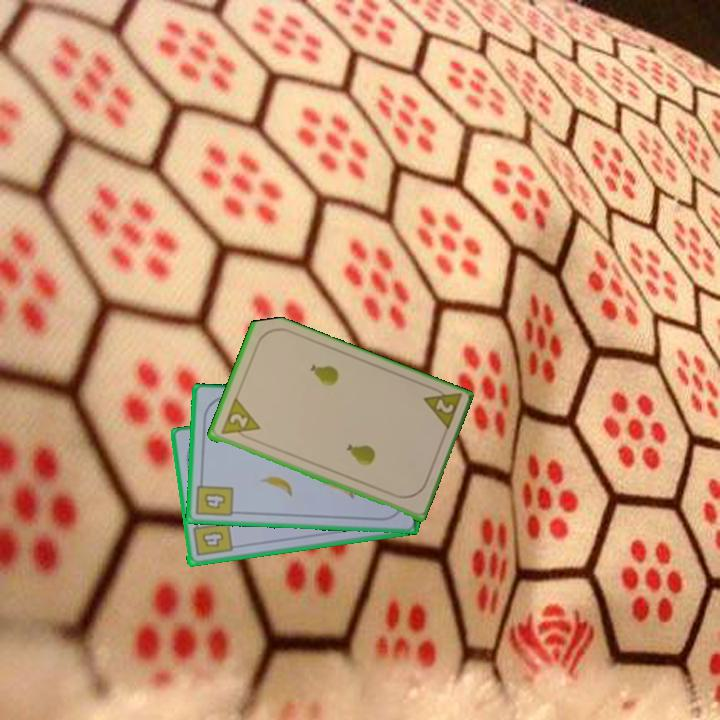2p: (419, 382, 464, 435), (217, 396, 262, 443)
4b: (189, 516, 234, 559), (193, 475, 236, 520)
